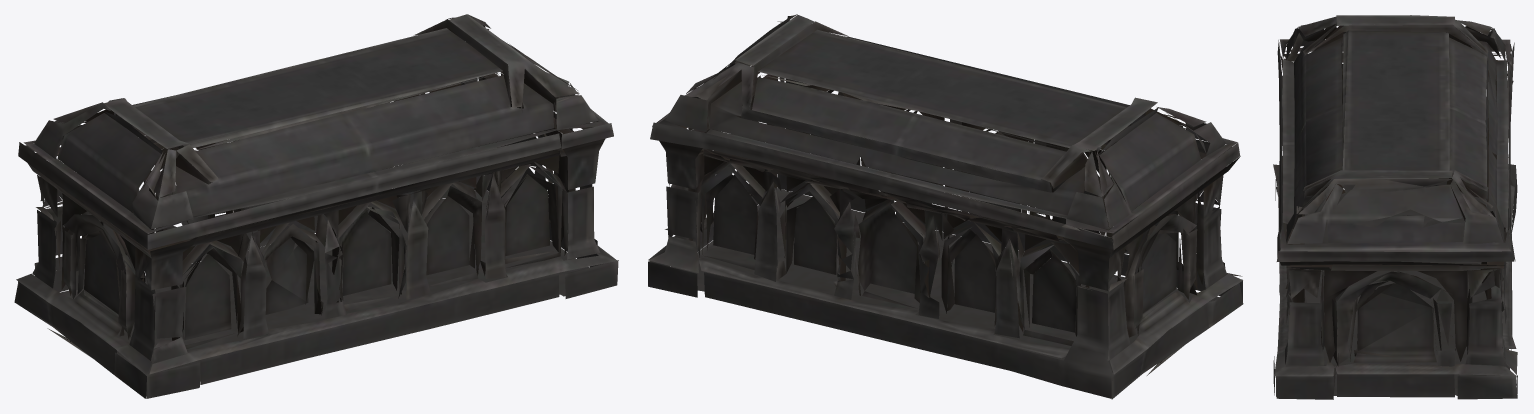
File: pro_sarcophagus.glb
3 renders of one model, left to right at view 1: azimuth 30°, elevation 25°; view 2: azimuth 150°, elevation 25°; view 3: azimuth 270°, elevation 25°, orthographic. The views are drawn at different scales.
Parts seen in each view (by area): view 1: MetricPlacement; view 2: MetricPlacement; view 3: MetricPlacement.
Part boxes in pixels (x1,y1,x2,y2): MetricPlacement: [14, 14, 618, 398]; MetricPlacement: [648, 14, 1243, 399]; MetricPlacement: [1273, 15, 1517, 399].
Bounding box in the file's own units: 2.2 × 0.9574 × 1.08.
1 material, 1 textured.
